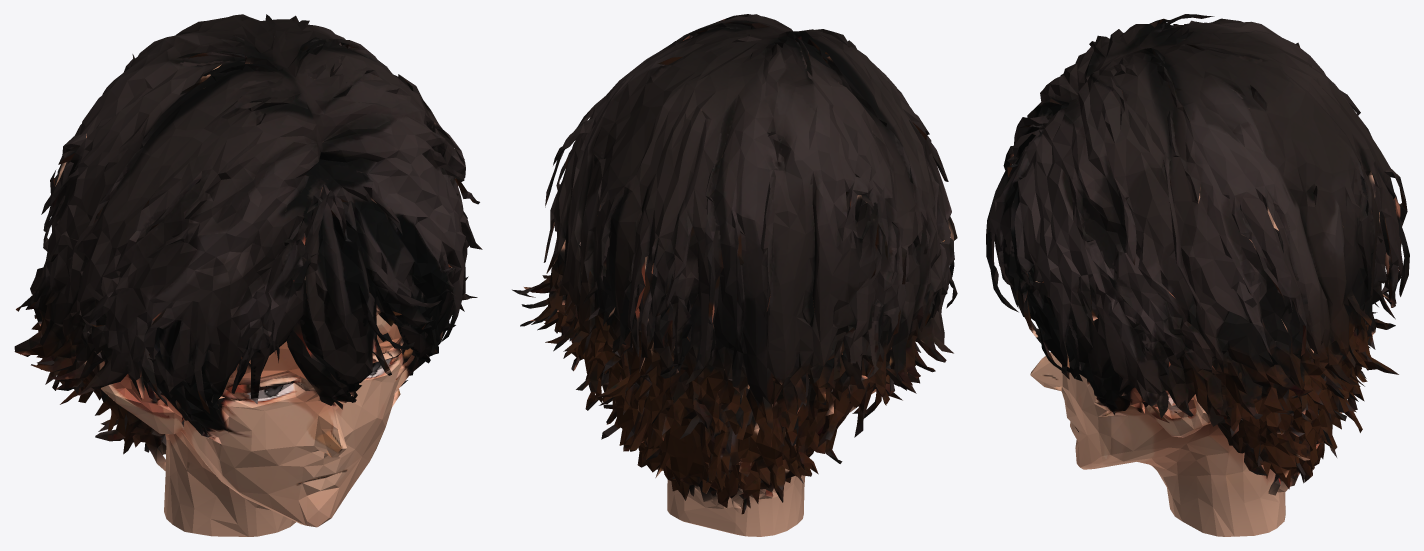
File: side_ebisu_repaired_atlas.glb
3 views of the same model, side by side, from view 1: azimuth 30°, elevation 25°; view 2: azimuth 150°, elevation 25°; view 3: azimuth 270°, elevation 25° (orthographic). The views are drawn at different scales.
Visible parts, largest first — view 1: temp_mesh.ply; view 2: temp_mesh.ply; view 3: temp_mesh.ply.
Boxes of the visible parts, x1,y1,x2,y2 form: temp_mesh.ply: [14, 14, 482, 536]; temp_mesh.ply: [512, 14, 957, 536]; temp_mesh.ply: [986, 14, 1409, 536].
Bounding box in the file's own units: 1.79 × 1.97 × 1.61.
Materials: 1 (1 with a texture image).
